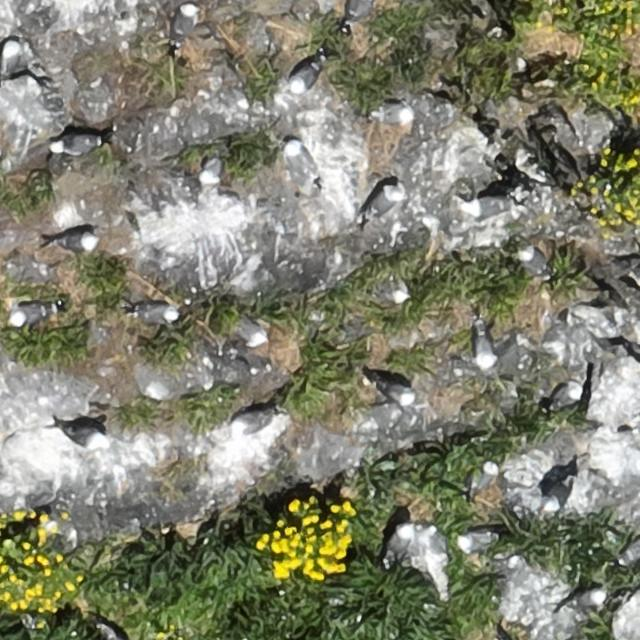umineko: (287, 139, 321, 185), (380, 522, 413, 567), (232, 312, 268, 350), (473, 327, 498, 371), (543, 476, 572, 512), (199, 154, 224, 192), (61, 427, 103, 448), (54, 133, 98, 153), (368, 188, 399, 216), (134, 303, 179, 322), (550, 383, 582, 409), (519, 250, 548, 278), (379, 379, 414, 402), (290, 61, 318, 89), (568, 588, 606, 608), (376, 104, 412, 124), (467, 197, 506, 215), (13, 304, 46, 325), (56, 232, 94, 250), (177, 4, 196, 38), (458, 532, 492, 551), (380, 283, 410, 304), (476, 462, 496, 492), (348, 1, 375, 22), (2, 42, 18, 70), (105, 626, 134, 639)
